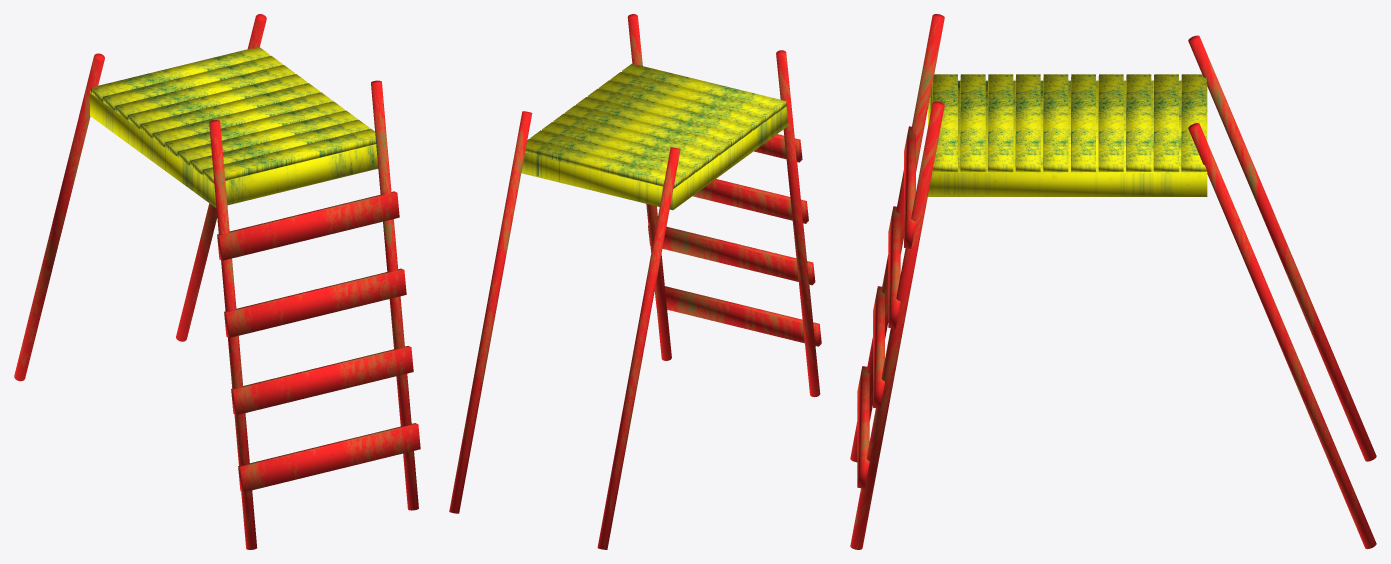
Rendered from escorrega_base_TEXTURIZADO.fbx.
3 renders of one model, left to right at view 1: azimuth 30°, elevation 25°; view 2: azimuth 150°, elevation 25°; view 3: azimuth 270°, elevation 25°, orthographic. The views are drawn at different scales.
Visible parts, largest first — view 1: Plane.027; view 2: Plane.027; view 3: Plane.027.
Part boxes in pixels (x1,y1,x2,y2): Plane.027: (14, 14, 420, 549); Plane.027: (449, 14, 821, 549); Plane.027: (850, 14, 1376, 549).
Bounding box in the file's own units: 118 × 256 × 275.
Materials: 1 (1 with a texture image).
